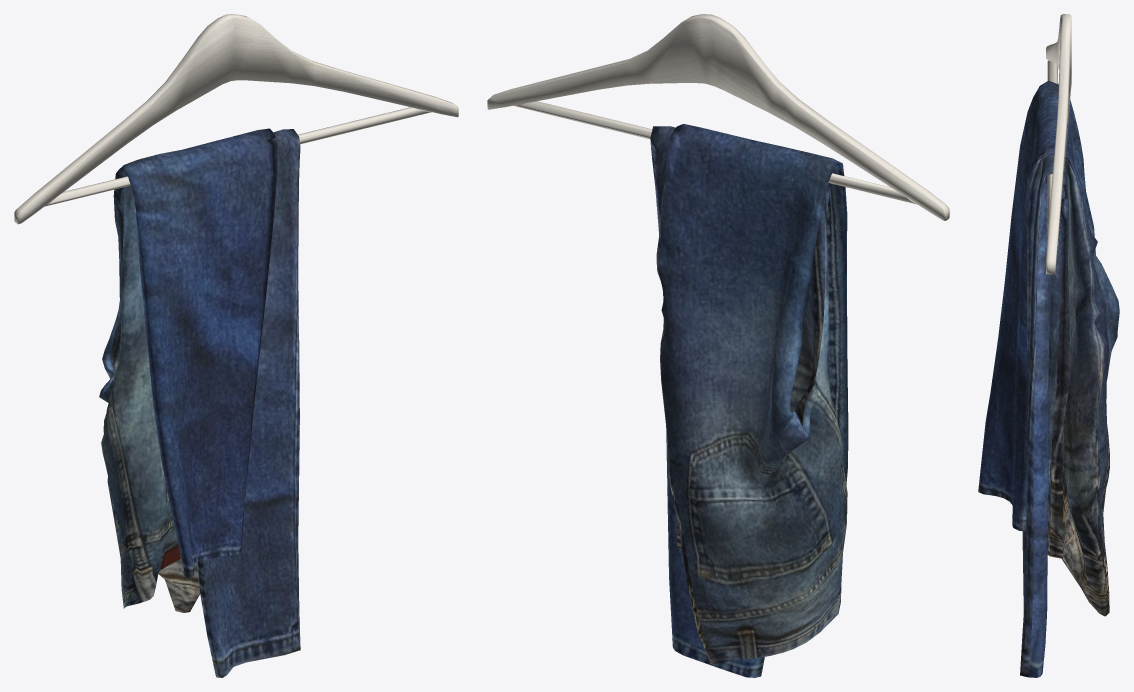
Rendered from hvpants_Pants_01.glb.
The picture shows the model from 3 angles, left to right: view 1: azimuth 30°, elevation 25°; view 2: azimuth 150°, elevation 25°; view 3: azimuth 270°, elevation 25°; orthographic projection. The views are drawn at different scales.
Visible parts, largest first — view 1: BP_Pants_01; view 2: BP_Pants_01; view 3: BP_Pants_01.
Part boxes in pixels (x1,y1,x2,y2): BP_Pants_01: (14, 14, 458, 677); BP_Pants_01: (487, 14, 949, 677); BP_Pants_01: (978, 14, 1119, 677).
Size of the model in its own units: 0.4373 by 0.607 by 0.1206.
2 materials, 2 textured.
